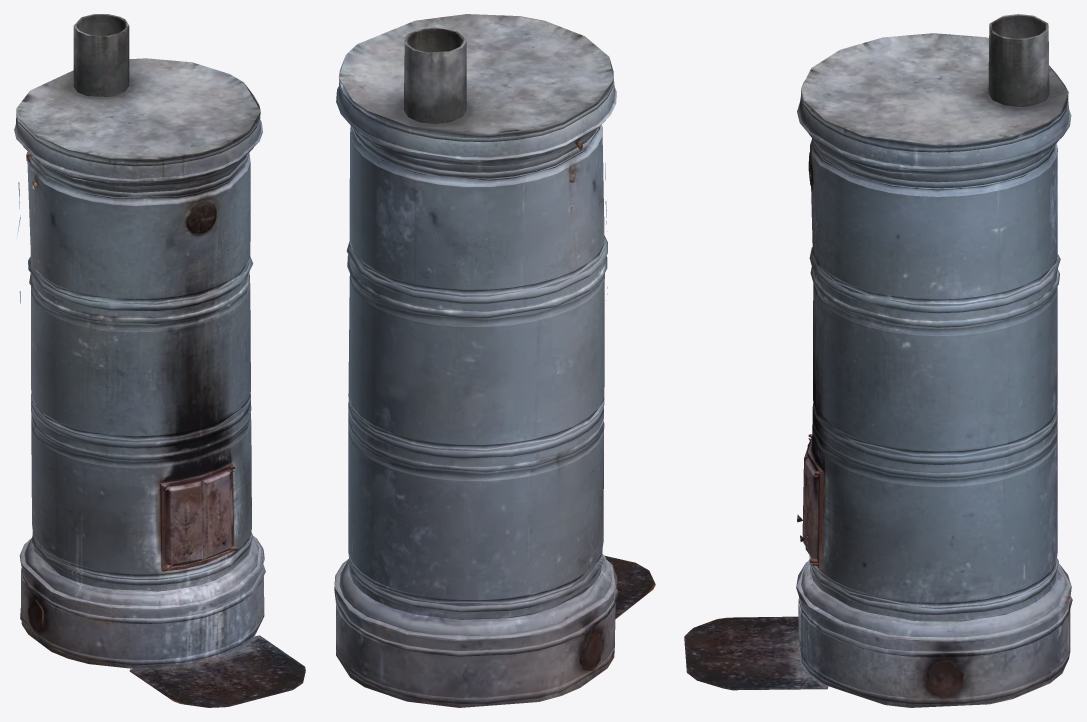
File: scandinavian_masonry_heater.glb
The picture shows the model from 3 angles, left to right: view 1: azimuth 30°, elevation 25°; view 2: azimuth 150°, elevation 25°; view 3: azimuth 270°, elevation 25°; orthographic projection. The views are drawn at different scales.
Visible parts, largest first — view 1: scandinavian_masonry_heater; view 2: scandinavian_masonry_heater; view 3: scandinavian_masonry_heater.
Boxes of the visible parts, box(x1,y1,x2,y2) form: scandinavian_masonry_heater: box(14, 14, 305, 707); scandinavian_masonry_heater: box(334, 14, 655, 707); scandinavian_masonry_heater: box(684, 14, 1072, 707).
Bounding box in the file's own units: 0.9933 × 2.36 × 1.33.
1 material, 1 textured.
